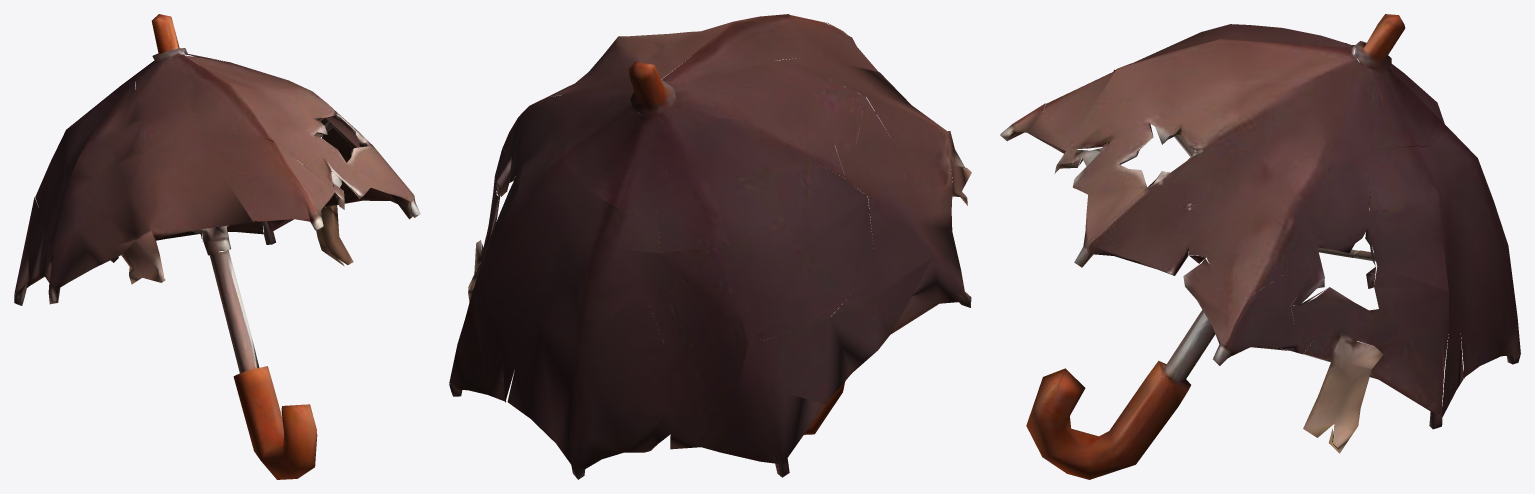
The model's file is umbrella.glb.
3 renders of one model, left to right at view 1: azimuth 30°, elevation 25°; view 2: azimuth 150°, elevation 25°; view 3: azimuth 270°, elevation 25°, orthographic. The views are drawn at different scales.
Visible parts, largest first — view 1: item; view 2: item; view 3: item.
Boxes of the visible parts, x1=… form: item: x1=14, y1=14, x2=420, y2=479; item: x1=449, y1=14, x2=971, y2=479; item: x1=1000, y1=14, x2=1520, y2=479.
Size of the model in its own units: 0.8981 by 0.8748 by 0.8964.
1 material, 1 textured.
